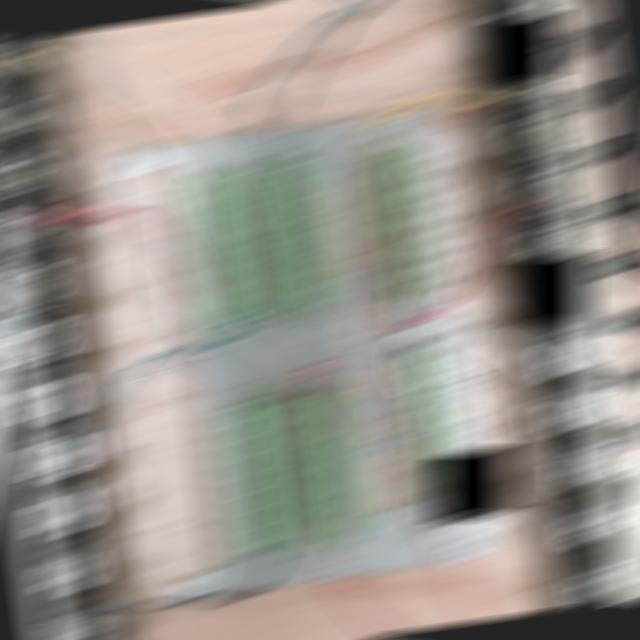Terminal_1: (398, 346, 465, 505), (367, 145, 434, 299)
Terminal_2: (305, 391, 371, 543), (261, 400, 327, 551), (274, 161, 341, 308), (229, 168, 293, 314), (183, 176, 246, 323)
